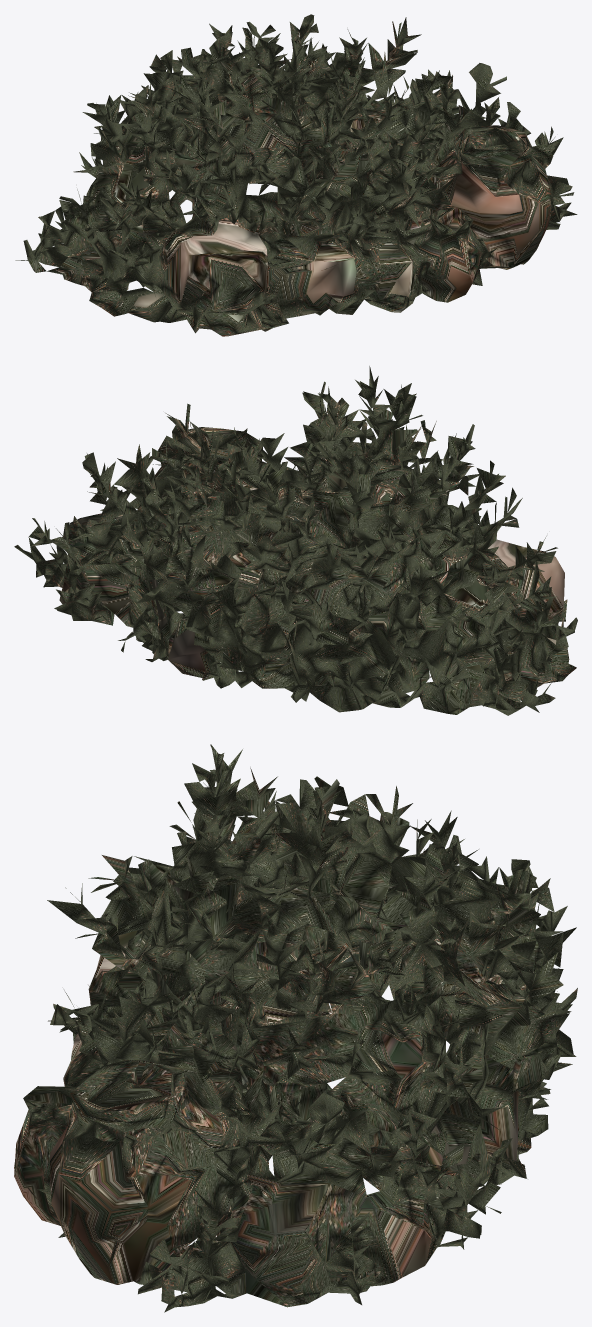
Rendered from olive-wall-cluster-b.glb.
The picture shows the model from 3 angles, top to bottom: view 1: azimuth 30°, elevation 25°; view 2: azimuth 150°, elevation 25°; view 3: azimuth 270°, elevation 25°; orthographic projection. The views are drawn at different scales.
Parts seen in each view (by area): view 1: geometry_0; view 2: geometry_0; view 3: geometry_0.
Boxes of the visible parts, x1,y1,x2,y2 form: geometry_0: (15, 14, 577, 336); geometry_0: (14, 366, 577, 715); geometry_0: (14, 744, 577, 1312).
Size of the model in its own units: 2.23 by 1.05 by 1.43.
Materials: 1 (1 with a texture image).
